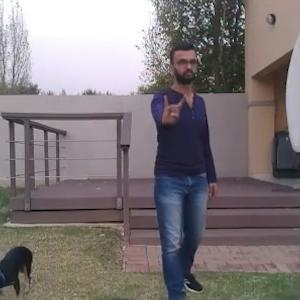takeoff-hand: (152, 80, 191, 130)
